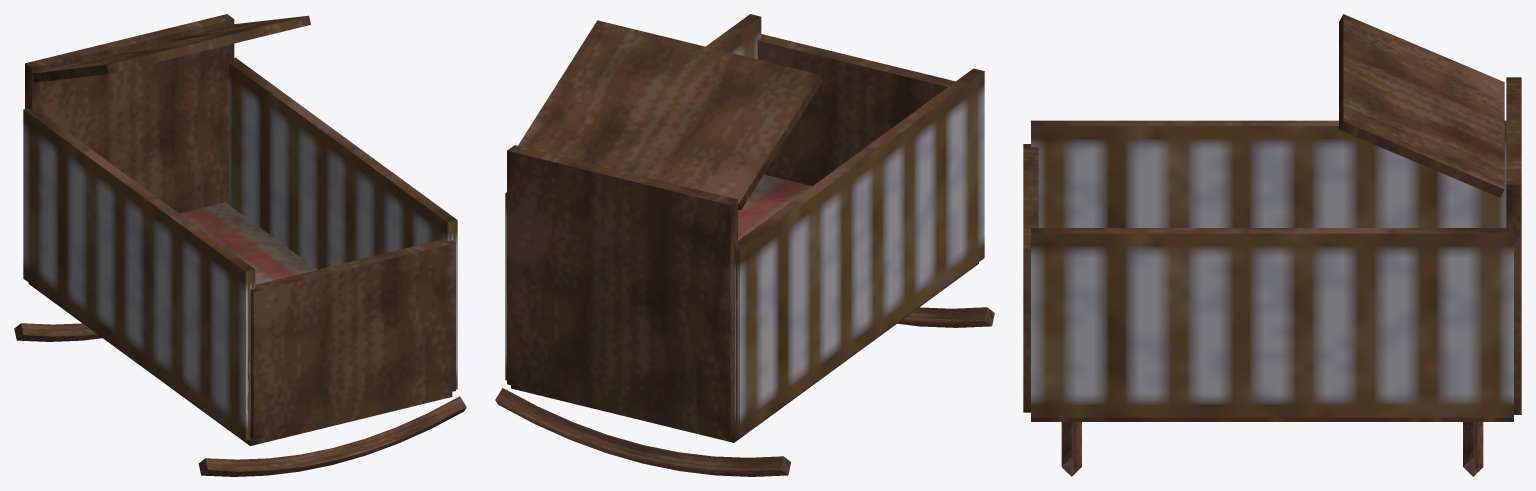
The model's file is cradle.fbx.
3 views of the same model, side by side, from view 1: azimuth 30°, elevation 25°; view 2: azimuth 150°, elevation 25°; view 3: azimuth 270°, elevation 25° (orthographic). The views are drawn at different scales.
Parts seen in each view (by area): view 1: cradle; view 2: cradle; view 3: cradle.
Boxes of the visible parts, left/top/right/bottom form: cradle: left=14, top=14, right=466, bottom=476; cradle: left=495, top=14, right=994, bottom=476; cradle: left=1023, top=14, right=1521, bottom=476.
Bounding box in the file's own units: 0.6506 × 0.7875 × 0.98.
1 material, 1 textured.
